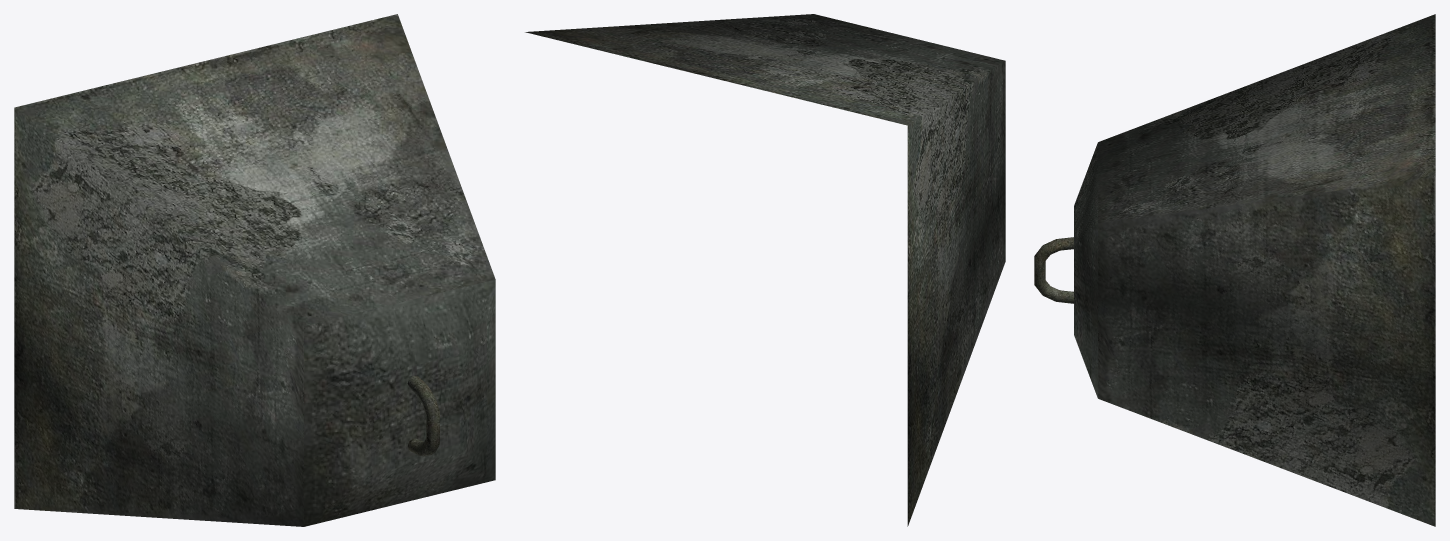
The model's file is military_dragonstooth_wet_d.glb.
The picture shows the model from 3 angles, left to right: view 1: azimuth 30°, elevation 25°; view 2: azimuth 150°, elevation 25°; view 3: azimuth 270°, elevation 25°; orthographic projection. The views are drawn at different scales.
Size of the model in its own units: 64 by 64 by 66.56.
Materials: 1 (1 with a texture image).
